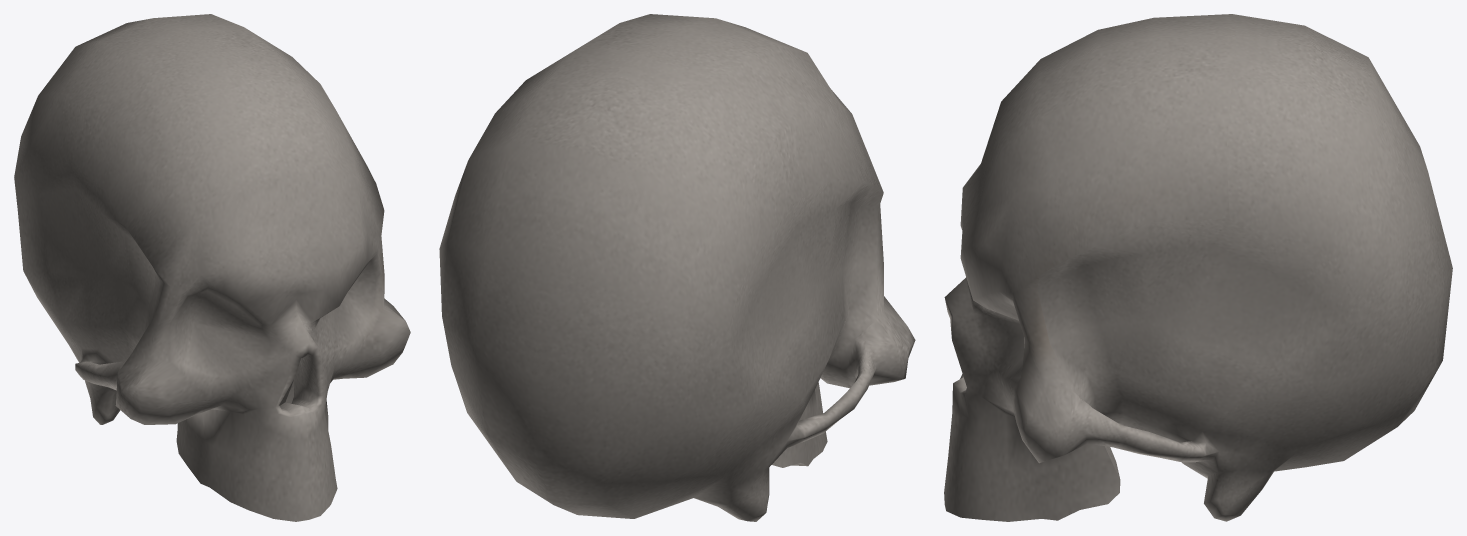
Rendered from kuloutou.FBX.
3 views of the same model, side by side, from view 1: azimuth 30°, elevation 25°; view 2: azimuth 150°, elevation 25°; view 3: azimuth 270°, elevation 25° (orthographic). The views are drawn at different scales.
Visible parts, largest first — view 1: kuloutou; view 2: kuloutou; view 3: kuloutou.
Part boxes in pixels (box(x1,y1,x2,y2)): kuloutou: box(14, 14, 410, 521); kuloutou: box(439, 14, 915, 521); kuloutou: box(944, 14, 1452, 521).
Bounding box in the file's own units: 13.5 × 18.05 × 17.76.
